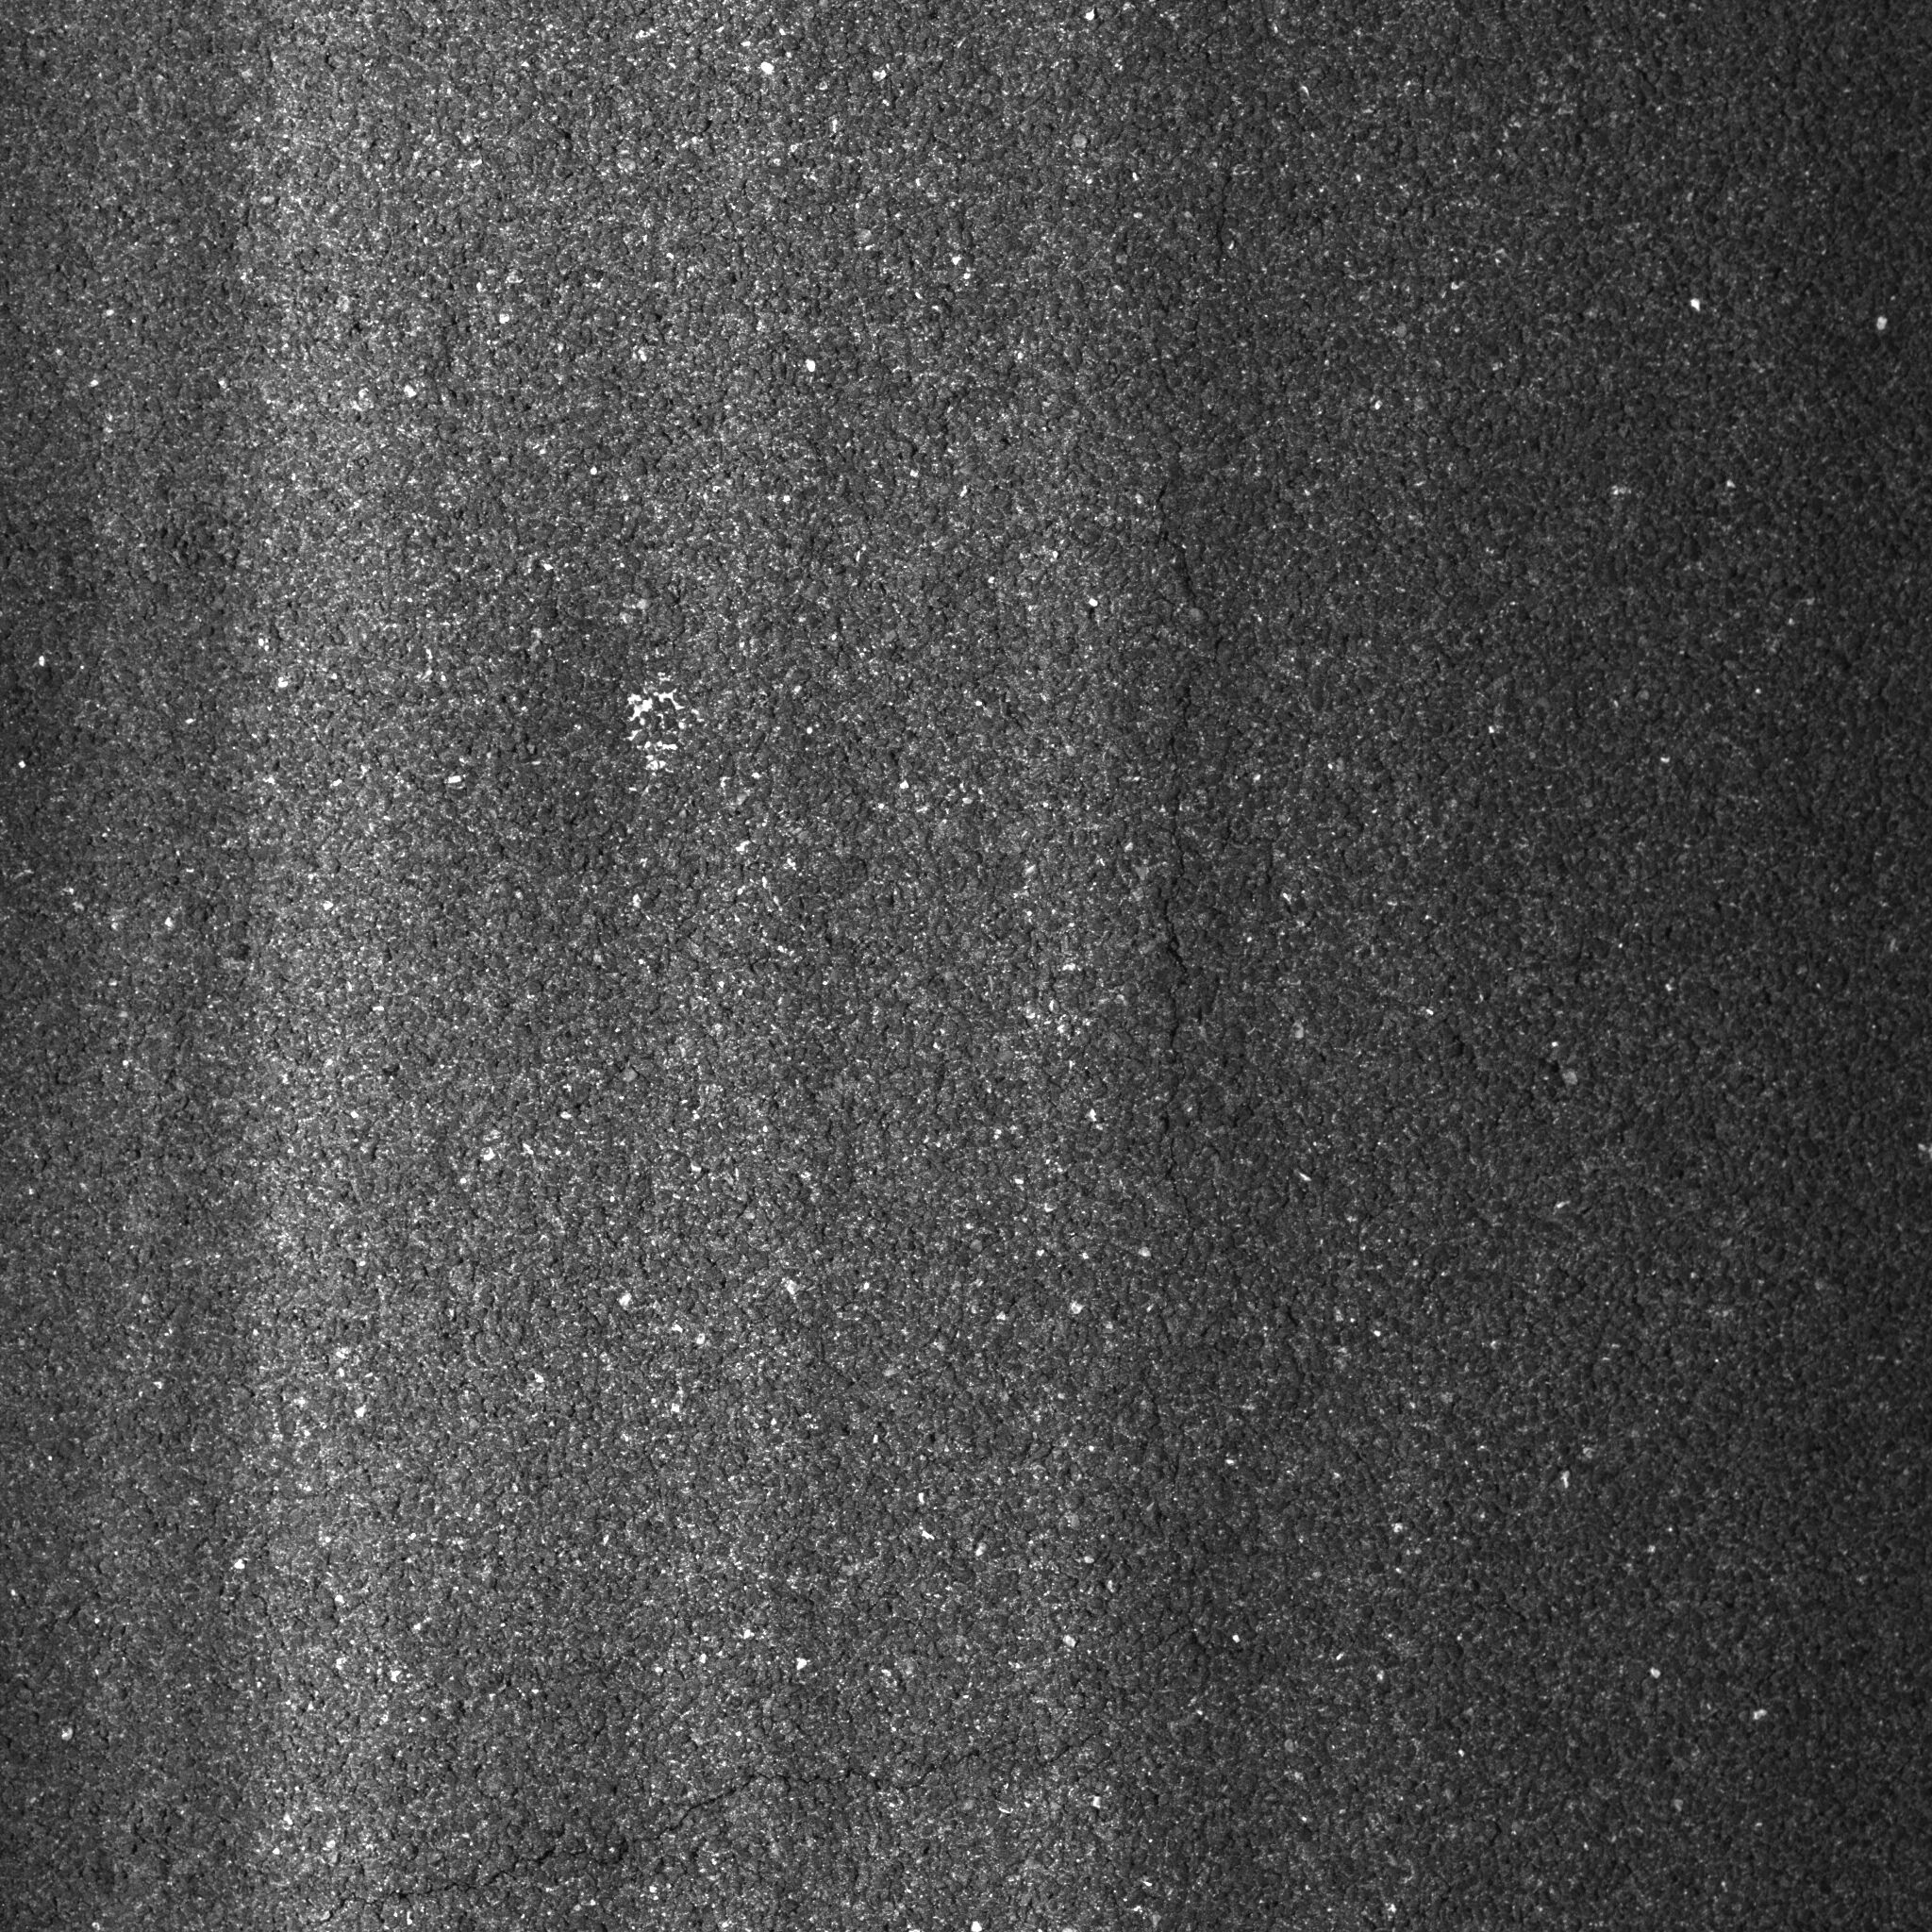longitudinal: (1092, 111, 1279, 1283)
